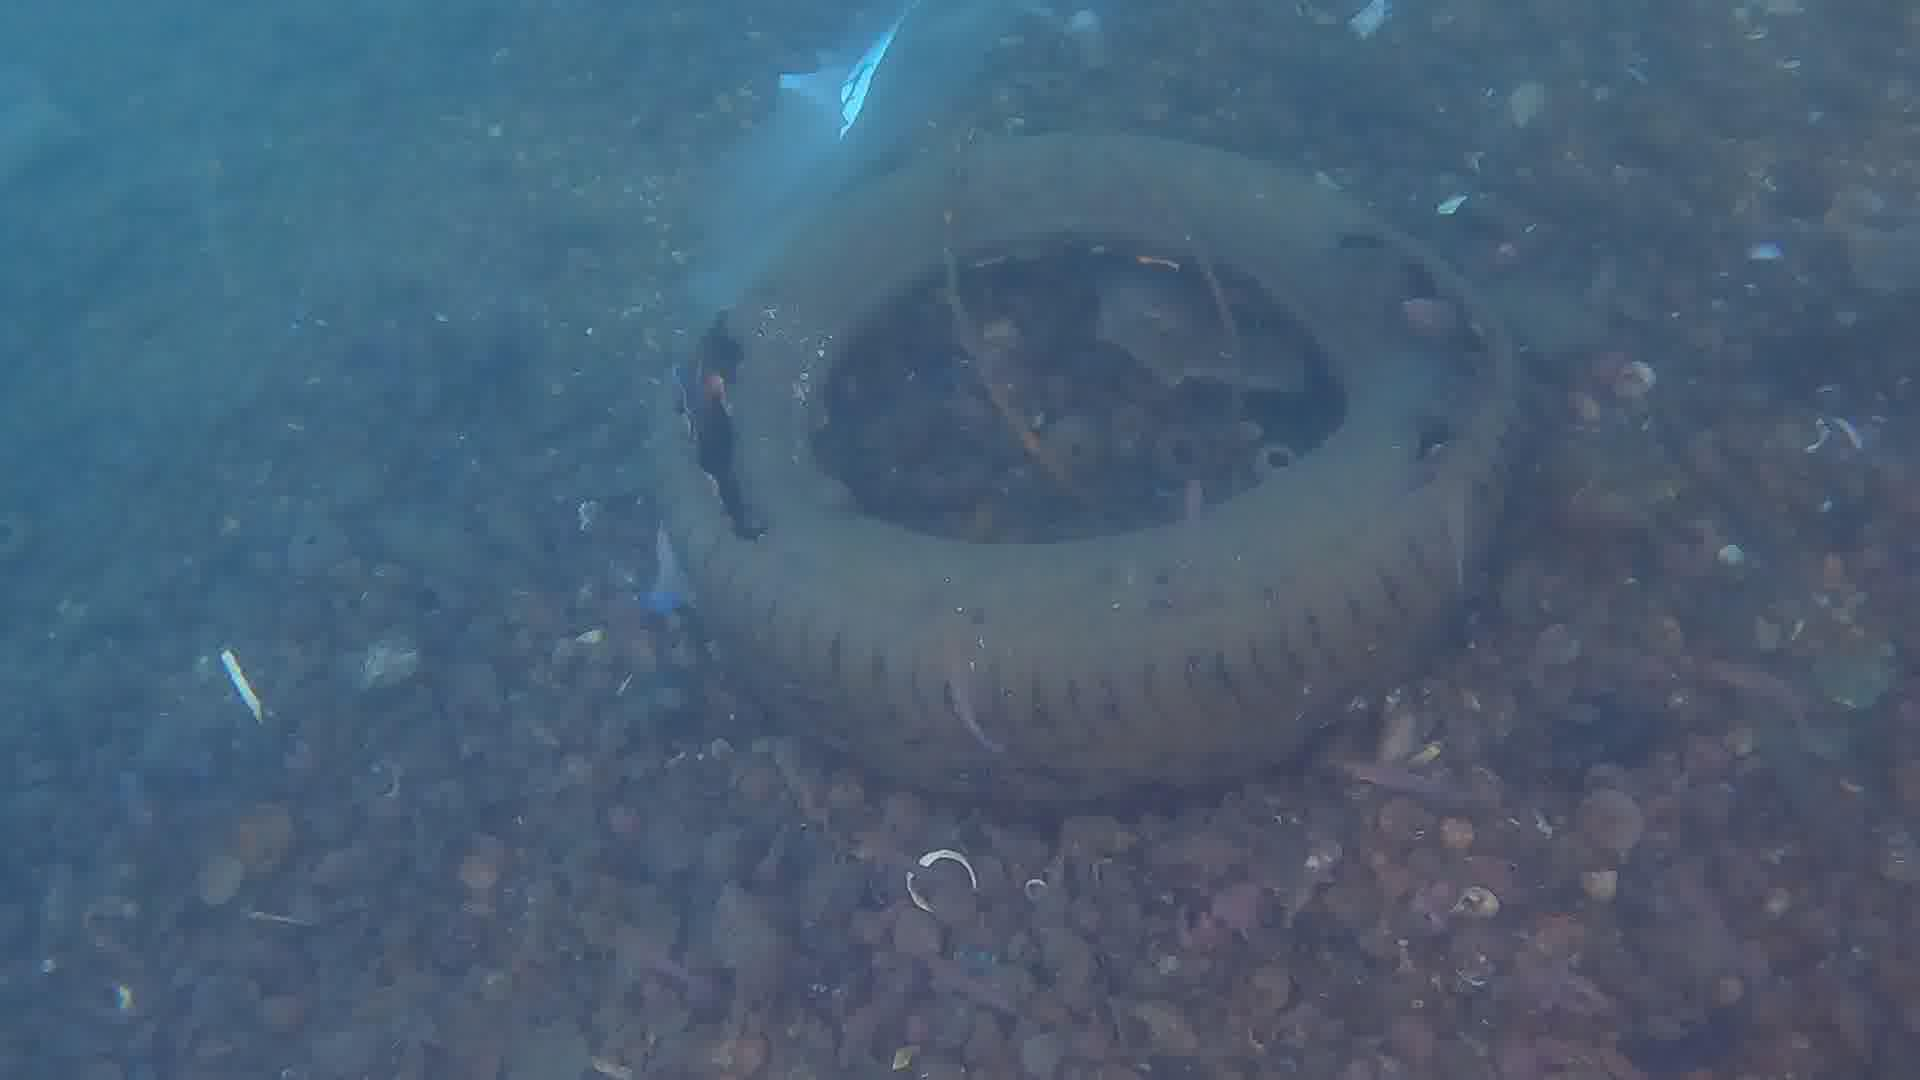tire: (649, 131, 1516, 806)
